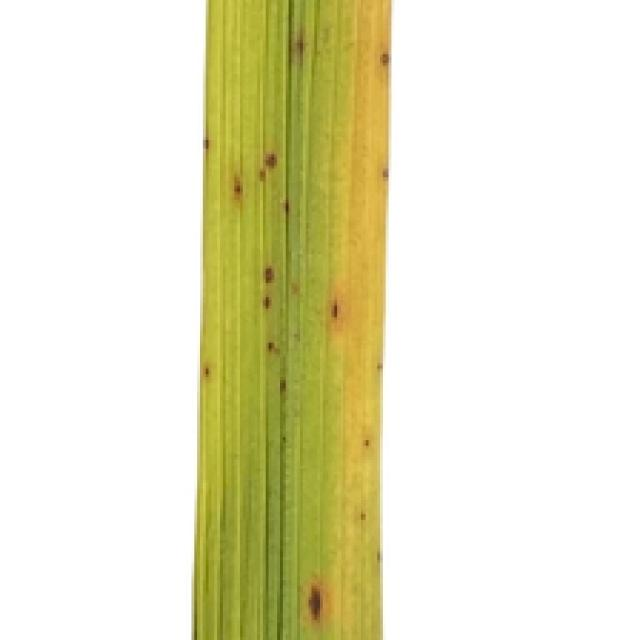Rice___Bacterial_Leaf_Blight: (188, 0, 394, 637)
